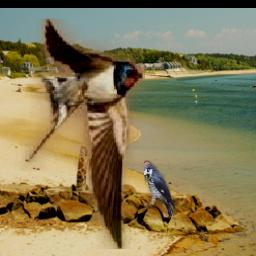Swallow: (0, 20, 144, 250)
Woodpecker: (143, 161, 175, 217)
